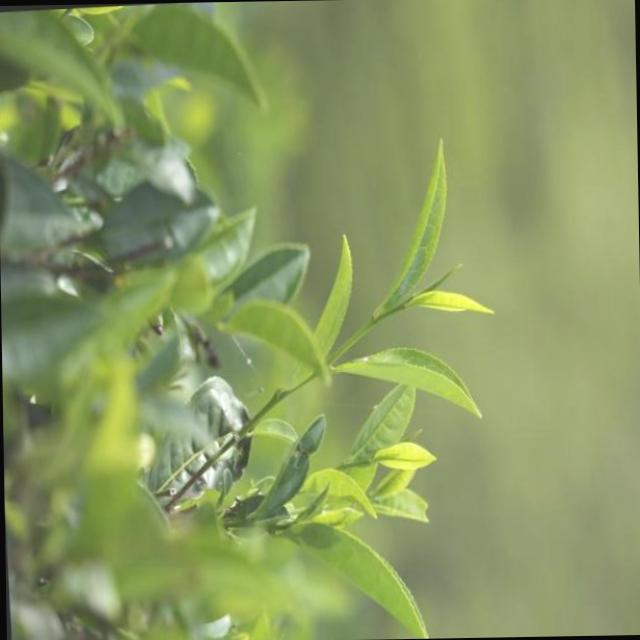Stem: (367, 318, 377, 325)
